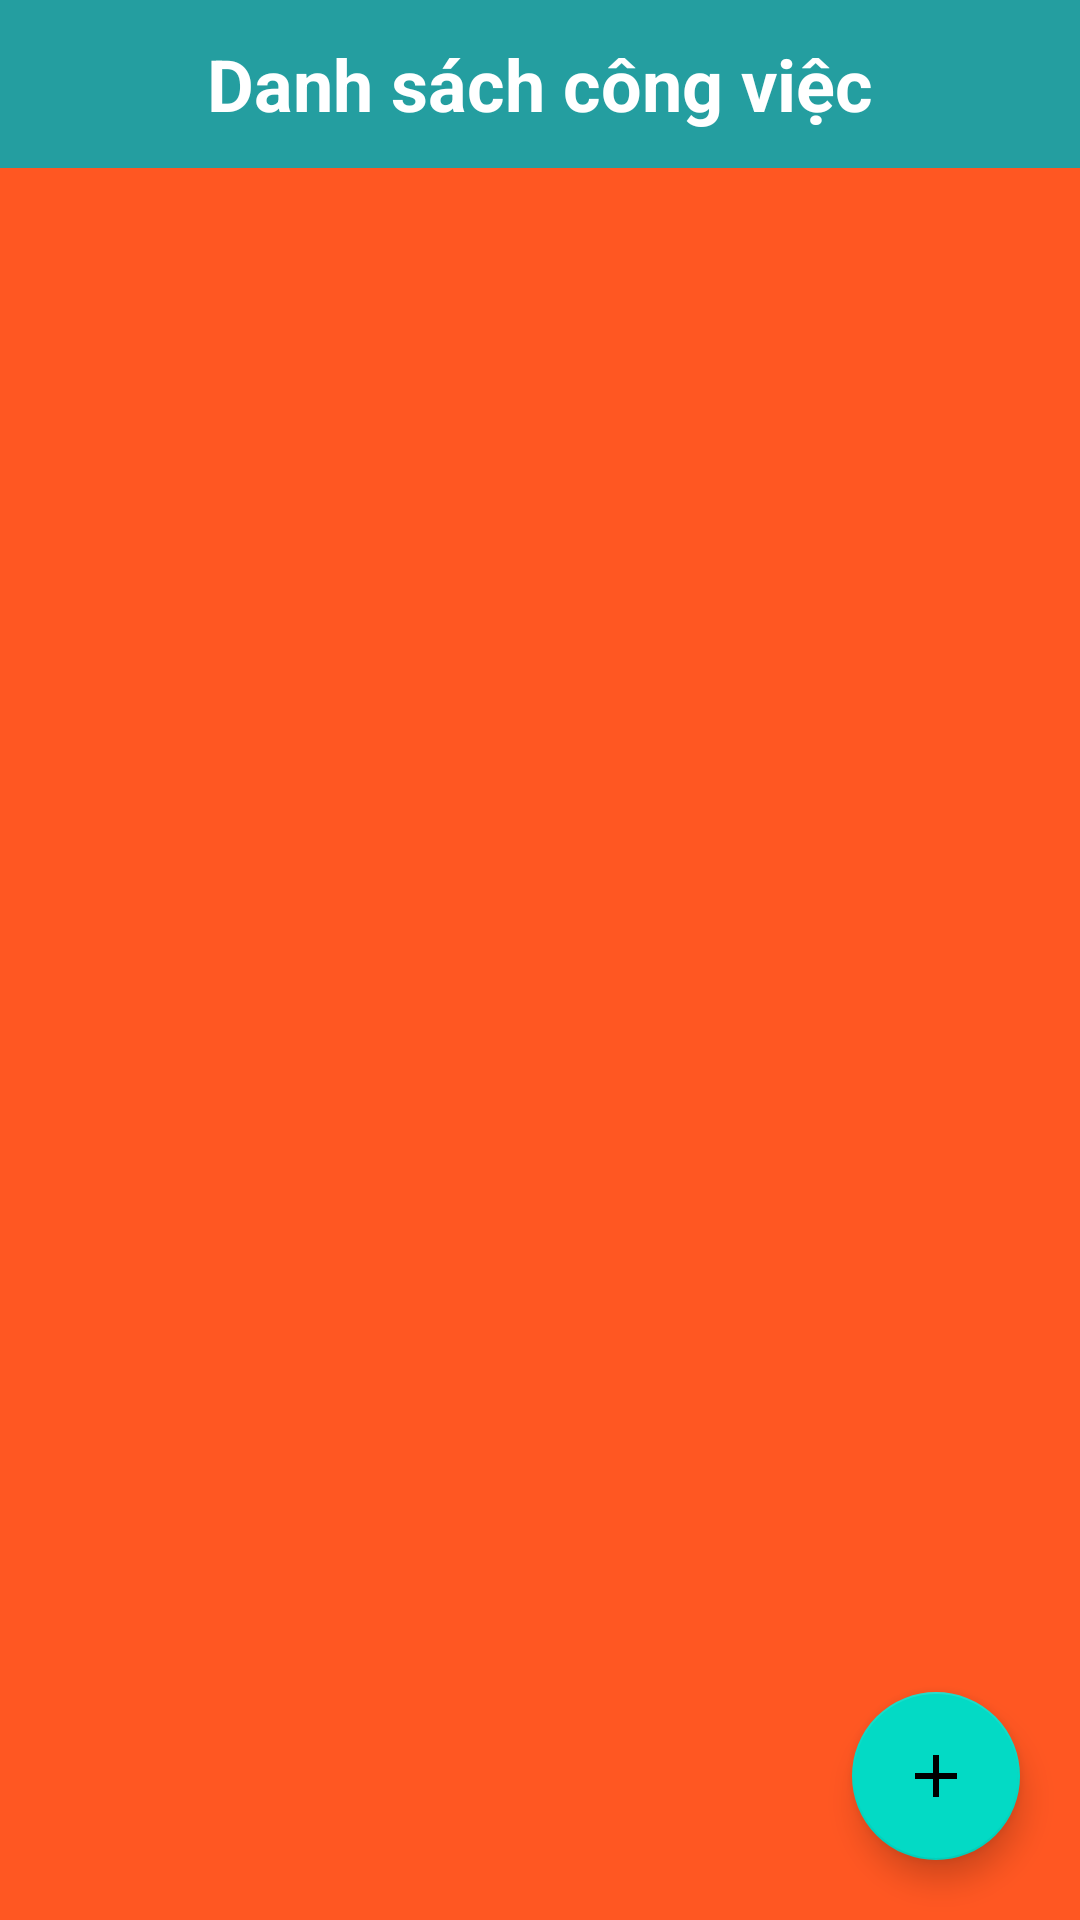

Icons on this 1080px×1920px Android screen, each with its box as (x1, y1, x2, y2):
add: (852, 1692, 1020, 1860)
